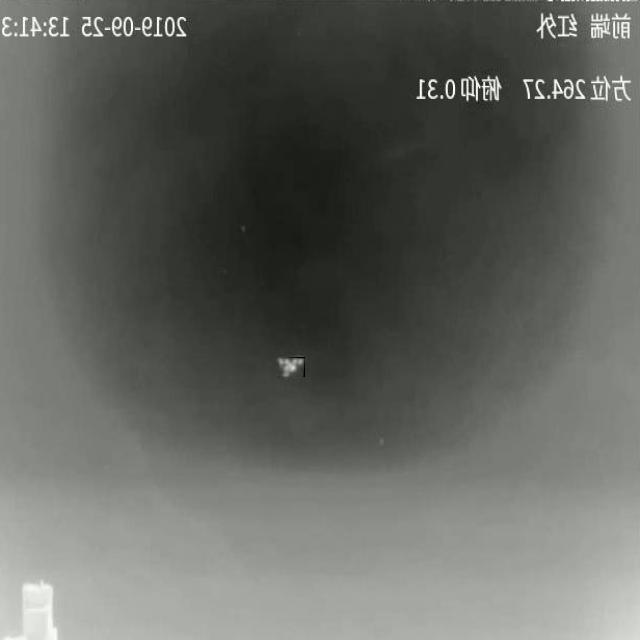drone: (278, 357, 305, 377)
